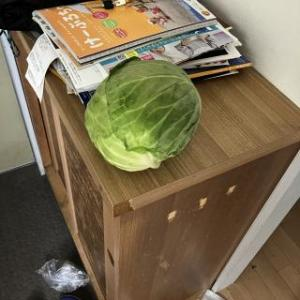cabbage: (83, 55, 203, 173)
